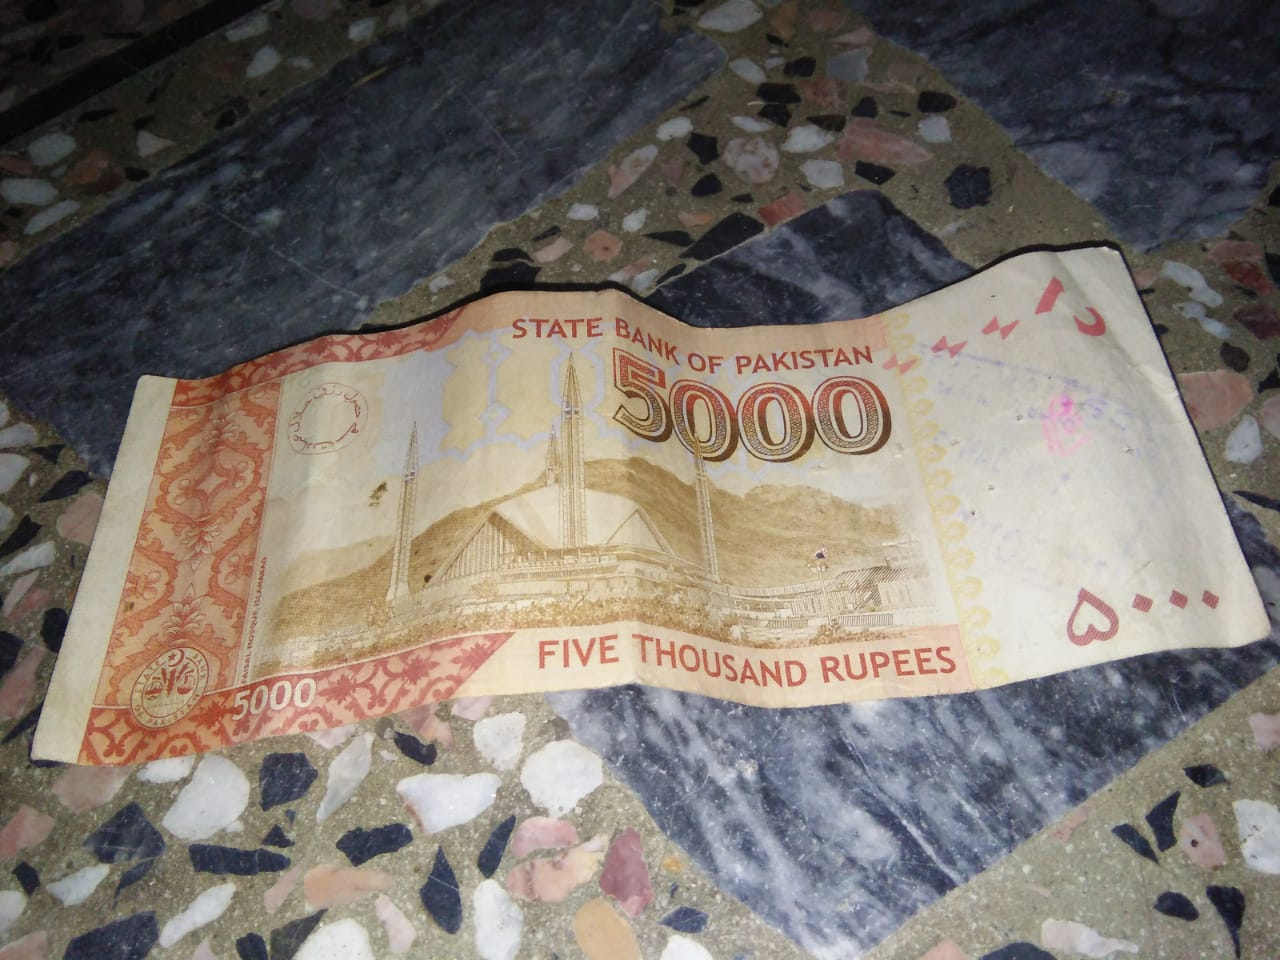5000 rupee: (93, 259, 1245, 782)
